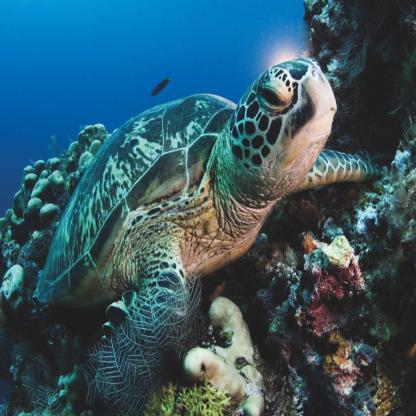turtle: (219, 51, 340, 209)
